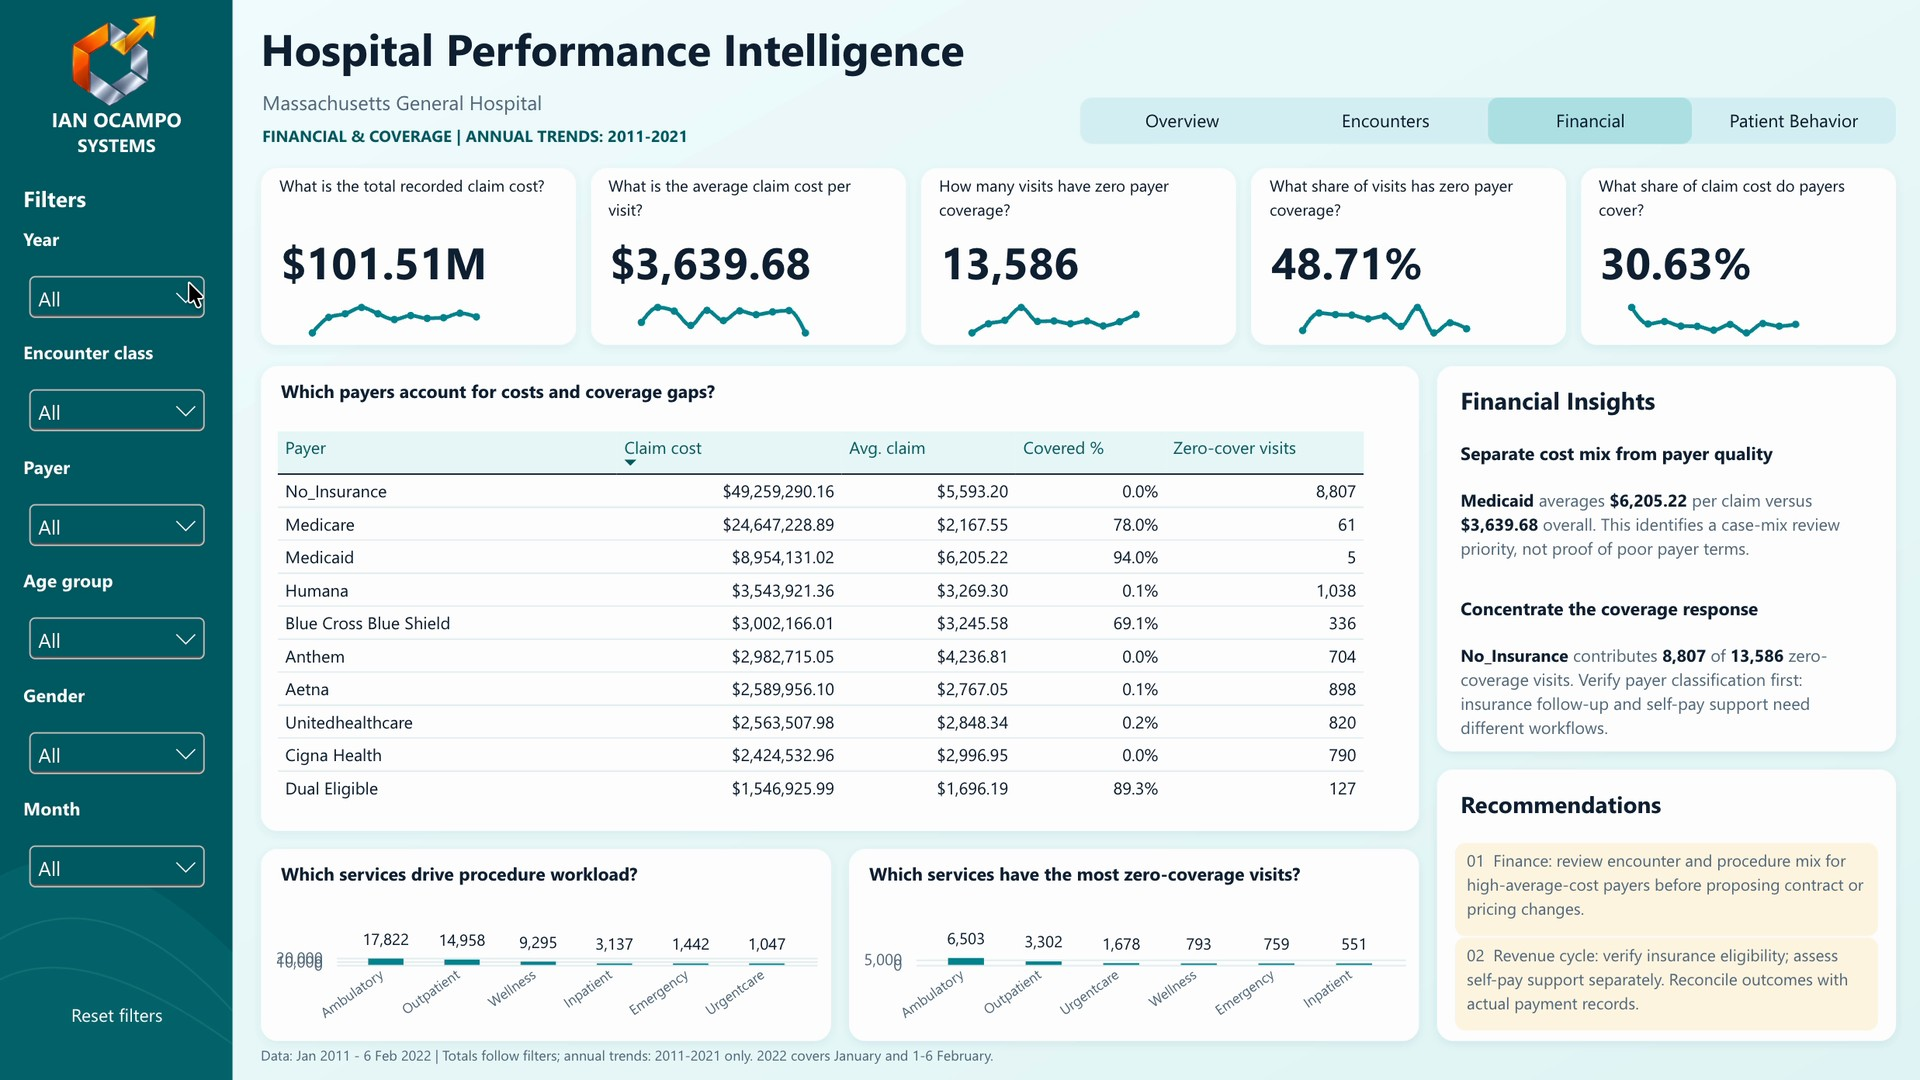

What the dashboard file says about the page in this screenshot:
{"tool":"powerbi","page":{"name":"Financial & Coverage","canvas":[1280,720],"ordinal":2},"visuals":[{"type":"textbox","box":[174,12,1086,53],"z":4},{"type":"textbox","box":[175,59,510,31],"z":5},{"type":"textbox","box":[175,82,510,28],"z":6},{"type":"actionButton","box":[720,65,136,31],"z":7},{"type":"actionButton","box":[856,65,136,31],"z":8},{"type":"actionButton","box":[992,65,136,31],"z":9},{"type":"actionButton","box":[1128,65,136,31],"z":10},{"type":"textbox","box":[16,122,125,33],"z":11},{"type":"textbox","box":[16,151,126,30],"z":12},{"type":"slicer","fields":{"Values":["DimDate.Year"]},"box":[14,179,127,49],"z":13},{"type":"textbox","box":[16,227,126,30],"z":14},{"type":"slicer","fields":{"Values":["encounters.EncounterClass"]},"box":[14,255,127,49],"z":15},{"type":"textbox","box":[16,303,126,30],"z":16},{"type":"slicer","fields":{"Values":["payers.Name"]},"box":[14,331,127,49],"z":17},{"type":"textbox","box":[16,379,126,30],"z":18},{"type":"slicer","fields":{"Values":["encounters.PatientAgeGroup"]},"box":[14,407,127,49],"z":19},{"type":"textbox","box":[16,455,126,30],"z":20},{"type":"slicer","fields":{"Values":["patients.Gender"]},"box":[14,483,127,49],"z":21},{"type":"textbox","box":[16,531,126,30],"z":22},{"type":"slicer","fields":{"Values":["DimDate.Month"]},"box":[14,559,127,49],"z":23},{"type":"actionButton","box":[14,661,127,32],"z":24},{"type":"textbox","box":[174,694,1090,26],"z":25},{"type":"textbox","box":[186,115,186,43],"z":26},{"type":"cardVisual","fields":{"Data":["encounters.Total Claim Cost"]},"box":[187,157,184,34],"z":27},{"type":"lineChart","fields":{"Category":["DimDate.Year"],"Y":["encounters.Total Claim Cost"]},"box":[187,194,184,32],"z":28},{"type":"textbox","box":[406,115,186,43],"z":29},{"type":"cardVisual","fields":{"Data":["encounters.Average Claim Cost"]},"box":[407,157,184,34],"z":30},{"type":"lineChart","fields":{"Category":["DimDate.Year"],"Y":["encounters.Average Claim Cost"]},"box":[407,194,184,32],"z":31},{"type":"textbox","box":[626,115,186,43],"z":32},{"type":"cardVisual","fields":{"Data":["encounters.Zero Coverage Encounters"]},"box":[627,157,184,34],"z":33},{"type":"lineChart","fields":{"Category":["DimDate.Year"],"Y":["encounters.Zero Coverage Encounters"]},"box":[627,194,184,32],"z":34},{"type":"textbox","box":[846,115,186,43],"z":35},{"type":"cardVisual","fields":{"Data":["encounters.Zero Coverage %"]},"box":[847,157,184,34],"z":36},{"type":"lineChart","fields":{"Category":["DimDate.Year"],"Y":["encounters.Zero Coverage %"]},"box":[847,194,184,32],"z":37},{"type":"textbox","box":[1066,115,186,43],"z":38},{"type":"cardVisual","fields":{"Data":["encounters.Coverage %"]},"box":[1067,157,184,34],"z":39},{"type":"lineChart","fields":{"Category":["DimDate.Year"],"Y":["encounters.Coverage %"]},"box":[1067,194,184,32],"z":40},{"type":"textbox","box":[187,252,746,42],"z":41},{"type":"tableEx","fields":{"Values":["payers.Name","encounters.Total Claim Cost","encounters.Average Claim Cost","encounters.Coverage %","encounters.Zero Coverage Encounters"]},"box":[184,288,752,256],"z":42},{"type":"textbox","box":[187,574,354,42],"z":43},{"type":"clusteredColumnChart","fields":{"Category":["encounters.EncounterClass"],"Y":["encounters.Total Procedures"]},"box":[183,608,362,80],"z":44},{"type":"textbox","box":[579,574,354,42],"z":45},{"type":"clusteredColumnChart","fields":{"Category":["encounters.EncounterClass"],"Y":["encounters.Zero Coverage Encounters"]},"box":[575,608,362,80],"z":46},{"type":"textbox","box":[974,256,274,35],"z":47},{"type":"textbox","box":[974,294,274,32],"z":48},{"type":"textbox","box":[974,325,274,71],"z":49},{"type":"textbox","box":[974,397,274,32],"z":50},{"type":"textbox","box":[974,428,274,71],"z":51},{"type":"textbox","box":[974,526,274,34],"z":52},{"type":"textbox","box":[978,565,270,57],"z":53},{"type":"textbox","box":[978,628,270,57],"z":54},{"type":"image","box":[41.5,8,66,66],"z":1000},{"type":"textbox","box":[8,70,139,43],"z":1001}]}

Visuals, with their boxes in screenshot pixels (x1, y1, x2, y2), scaled from the page's 1280x720 canvas onto the 1920x1080 screenshot:
textbox: x1=261, y1=18, x2=1890, y2=98
textbox: x1=262, y1=88, x2=1028, y2=135
textbox: x1=262, y1=123, x2=1028, y2=165
actionButton: x1=1080, y1=98, x2=1284, y2=144
actionButton: x1=1284, y1=98, x2=1488, y2=144
actionButton: x1=1488, y1=98, x2=1692, y2=144
actionButton: x1=1692, y1=98, x2=1896, y2=144
textbox: x1=24, y1=183, x2=212, y2=232
textbox: x1=24, y1=226, x2=213, y2=272
slicer - DimDate.Year: x1=21, y1=268, x2=212, y2=342
textbox: x1=24, y1=340, x2=213, y2=386
slicer - encounters.EncounterClass: x1=21, y1=382, x2=212, y2=456
textbox: x1=24, y1=454, x2=213, y2=500
slicer - payers.Name: x1=21, y1=496, x2=212, y2=570
textbox: x1=24, y1=568, x2=213, y2=614
slicer - encounters.PatientAgeGroup: x1=21, y1=610, x2=212, y2=684
textbox: x1=24, y1=682, x2=213, y2=728
slicer - patients.Gender: x1=21, y1=724, x2=212, y2=798
textbox: x1=24, y1=796, x2=213, y2=842
slicer - DimDate.Month: x1=21, y1=838, x2=212, y2=912
actionButton: x1=21, y1=992, x2=212, y2=1040
textbox: x1=261, y1=1041, x2=1896, y2=1079
textbox: x1=279, y1=172, x2=558, y2=237
cardVisual - encounters.Total Claim Cost: x1=280, y1=236, x2=556, y2=286
lineChart - DimDate.Year x encounters.Total Claim Cost: x1=280, y1=291, x2=556, y2=339
textbox: x1=609, y1=172, x2=888, y2=237
cardVisual - encounters.Average Claim Cost: x1=610, y1=236, x2=886, y2=286
lineChart - DimDate.Year x encounters.Average Claim Cost: x1=610, y1=291, x2=886, y2=339
textbox: x1=939, y1=172, x2=1218, y2=237
cardVisual - encounters.Zero Coverage Encounters: x1=940, y1=236, x2=1216, y2=286
lineChart - DimDate.Year x encounters.Zero Coverage Encounters: x1=940, y1=291, x2=1216, y2=339
textbox: x1=1269, y1=172, x2=1548, y2=237
cardVisual - encounters.Zero Coverage %: x1=1270, y1=236, x2=1546, y2=286
lineChart - DimDate.Year x encounters.Zero Coverage %: x1=1270, y1=291, x2=1546, y2=339
textbox: x1=1599, y1=172, x2=1878, y2=237
cardVisual - encounters.Coverage %: x1=1600, y1=236, x2=1876, y2=286
lineChart - DimDate.Year x encounters.Coverage %: x1=1600, y1=291, x2=1876, y2=339
textbox: x1=280, y1=378, x2=1400, y2=441
tableEx - payers.Name x encounters.Total Claim Cost: x1=276, y1=432, x2=1404, y2=816
textbox: x1=280, y1=861, x2=812, y2=924
clusteredColumnChart - encounters.EncounterClass x encounters.Total Procedures: x1=274, y1=912, x2=818, y2=1032
textbox: x1=868, y1=861, x2=1400, y2=924
clusteredColumnChart - encounters.EncounterClass x encounters.Zero Coverage Encounters: x1=862, y1=912, x2=1406, y2=1032
textbox: x1=1461, y1=384, x2=1872, y2=436
textbox: x1=1461, y1=441, x2=1872, y2=489
textbox: x1=1461, y1=488, x2=1872, y2=594
textbox: x1=1461, y1=596, x2=1872, y2=644
textbox: x1=1461, y1=642, x2=1872, y2=748
textbox: x1=1461, y1=789, x2=1872, y2=840
textbox: x1=1467, y1=848, x2=1872, y2=933
textbox: x1=1467, y1=942, x2=1872, y2=1028
image: x1=62, y1=12, x2=161, y2=111
textbox: x1=12, y1=105, x2=220, y2=170
